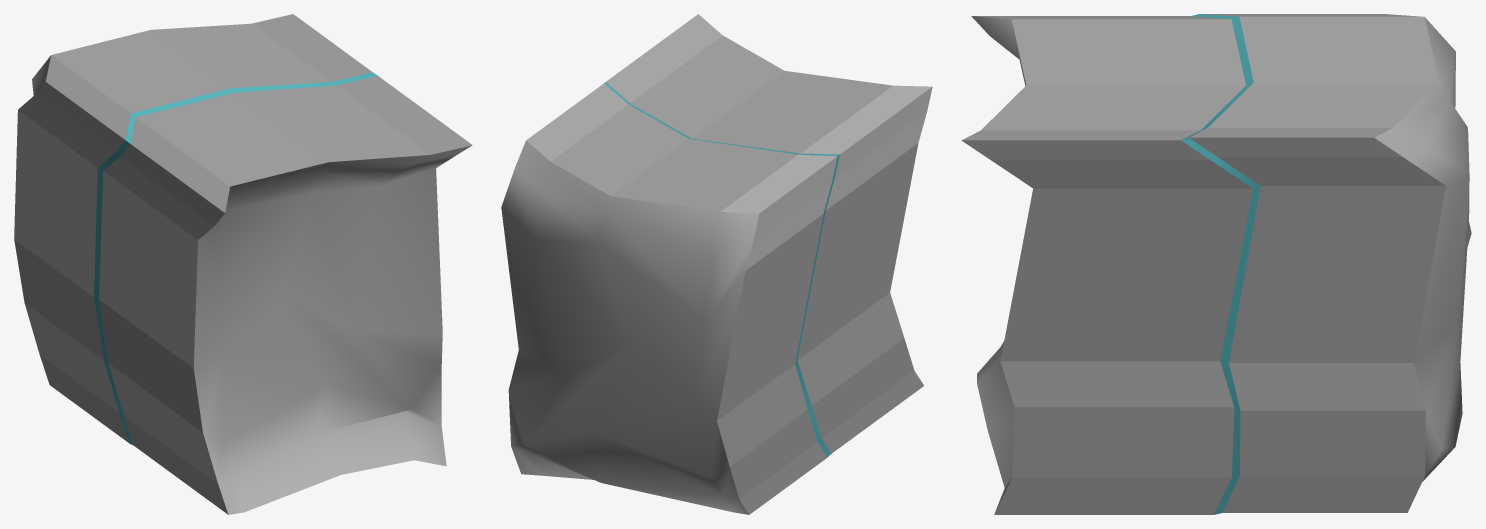
The model's file is StickyV3.fbx.
3 renders of one model, left to right at view 1: azimuth 30°, elevation 25°; view 2: azimuth 150°, elevation 25°; view 3: azimuth 270°, elevation 25°, orthographic. The views are drawn at different scales.
Parts seen in each view (by area): view 1: polySurface3; view 2: polySurface3; view 3: polySurface3.
Boxes of the visible parts, bbox=[...] form: polySurface3: bbox=[14, 14, 472, 514]; polySurface3: bbox=[501, 14, 932, 514]; polySurface3: bbox=[961, 14, 1471, 514].
Bounding box in the file's own units: 27.01 × 33.87 × 40.9.
